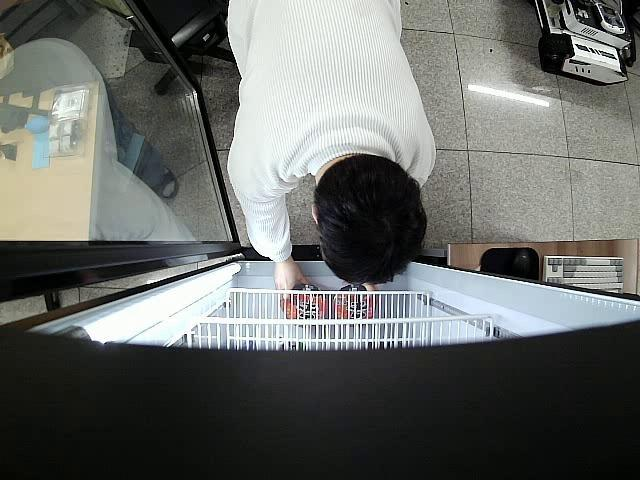01_ShinRamen_L: (284, 282, 325, 326)
